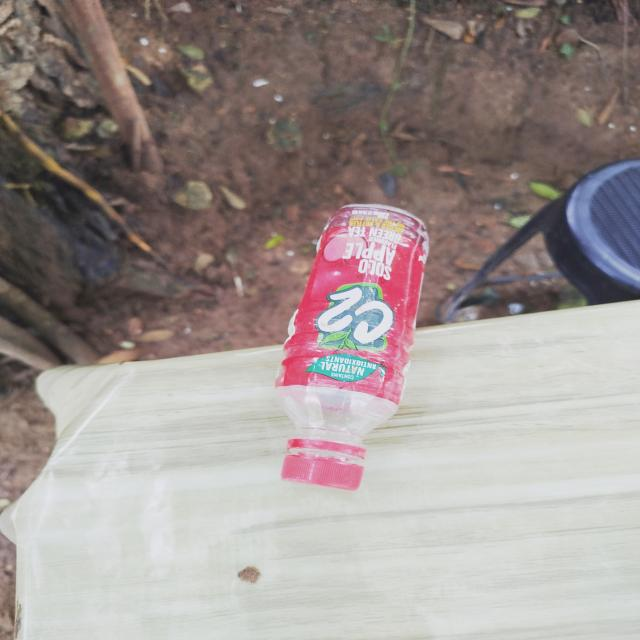plastic: (271, 189, 433, 497)
